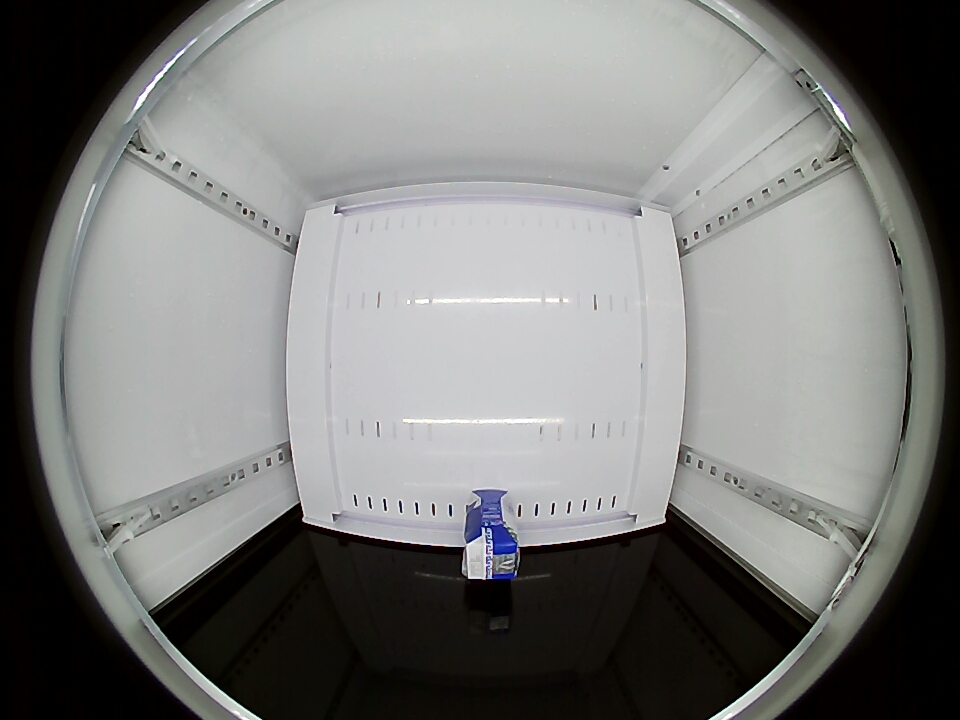anmuxi: (462, 526, 521, 580)
